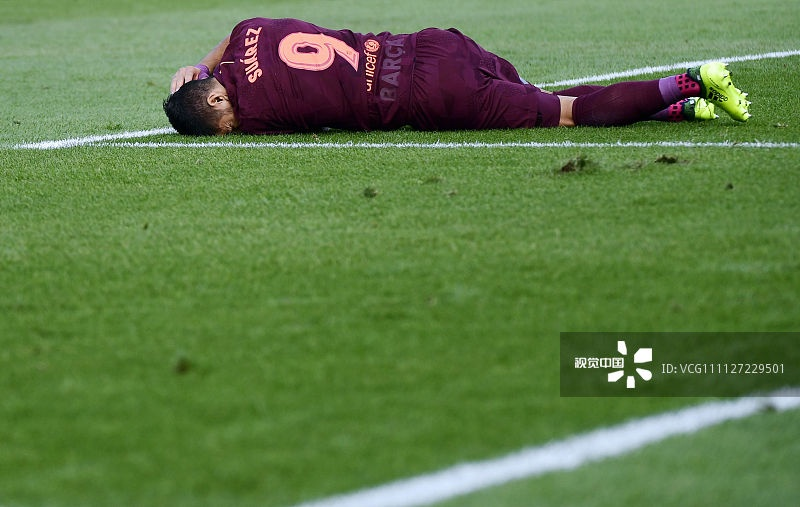falling: (163, 8, 745, 141)
